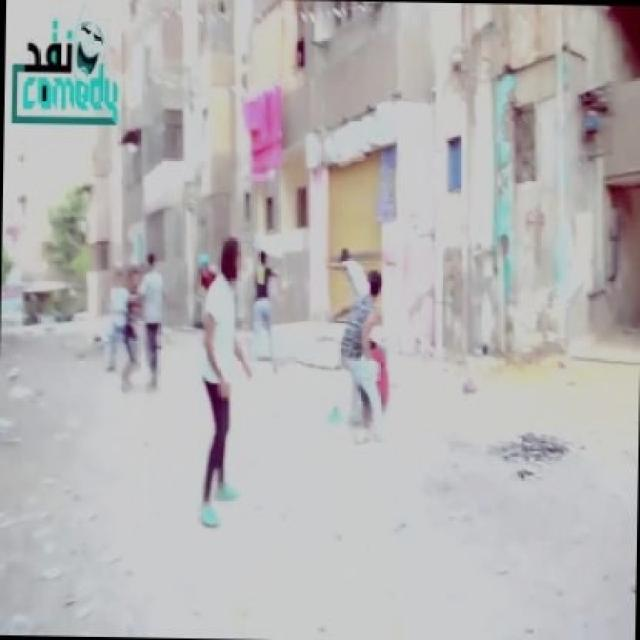non-fight: (190, 233, 244, 532)
